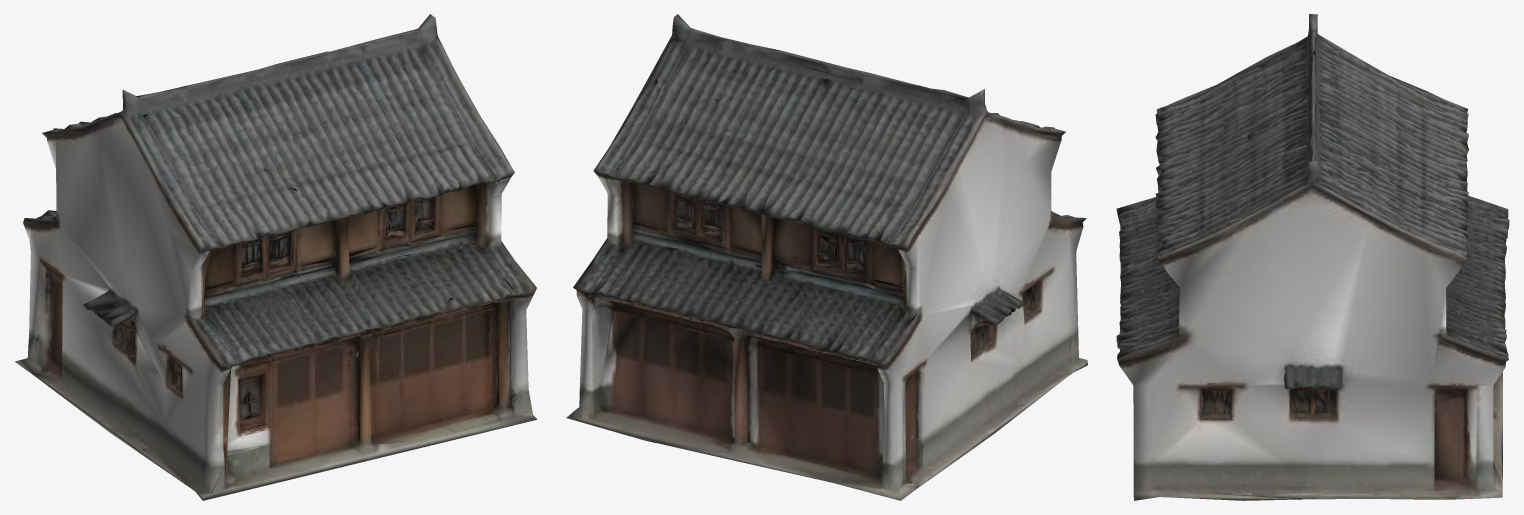
Rendered from bq_house_2f.bk.glb.
3 renders of one model, left to right at view 1: azimuth 30°, elevation 25°; view 2: azimuth 150°, elevation 25°; view 3: azimuth 270°, elevation 25°, orthographic. The views are drawn at different scales.
Parts seen in each view (by area): view 1: lo; view 2: lo; view 3: lo.
Part boxes in pixels (x1,y1,x2,y2): lo: (15,14,536,500); lo: (566,14,1087,500); lo: (1116,14,1509,500).
Bounding box in the file's own units: 1.9 × 1.69 × 1.81.
Materials: 1 (1 with a texture image).
